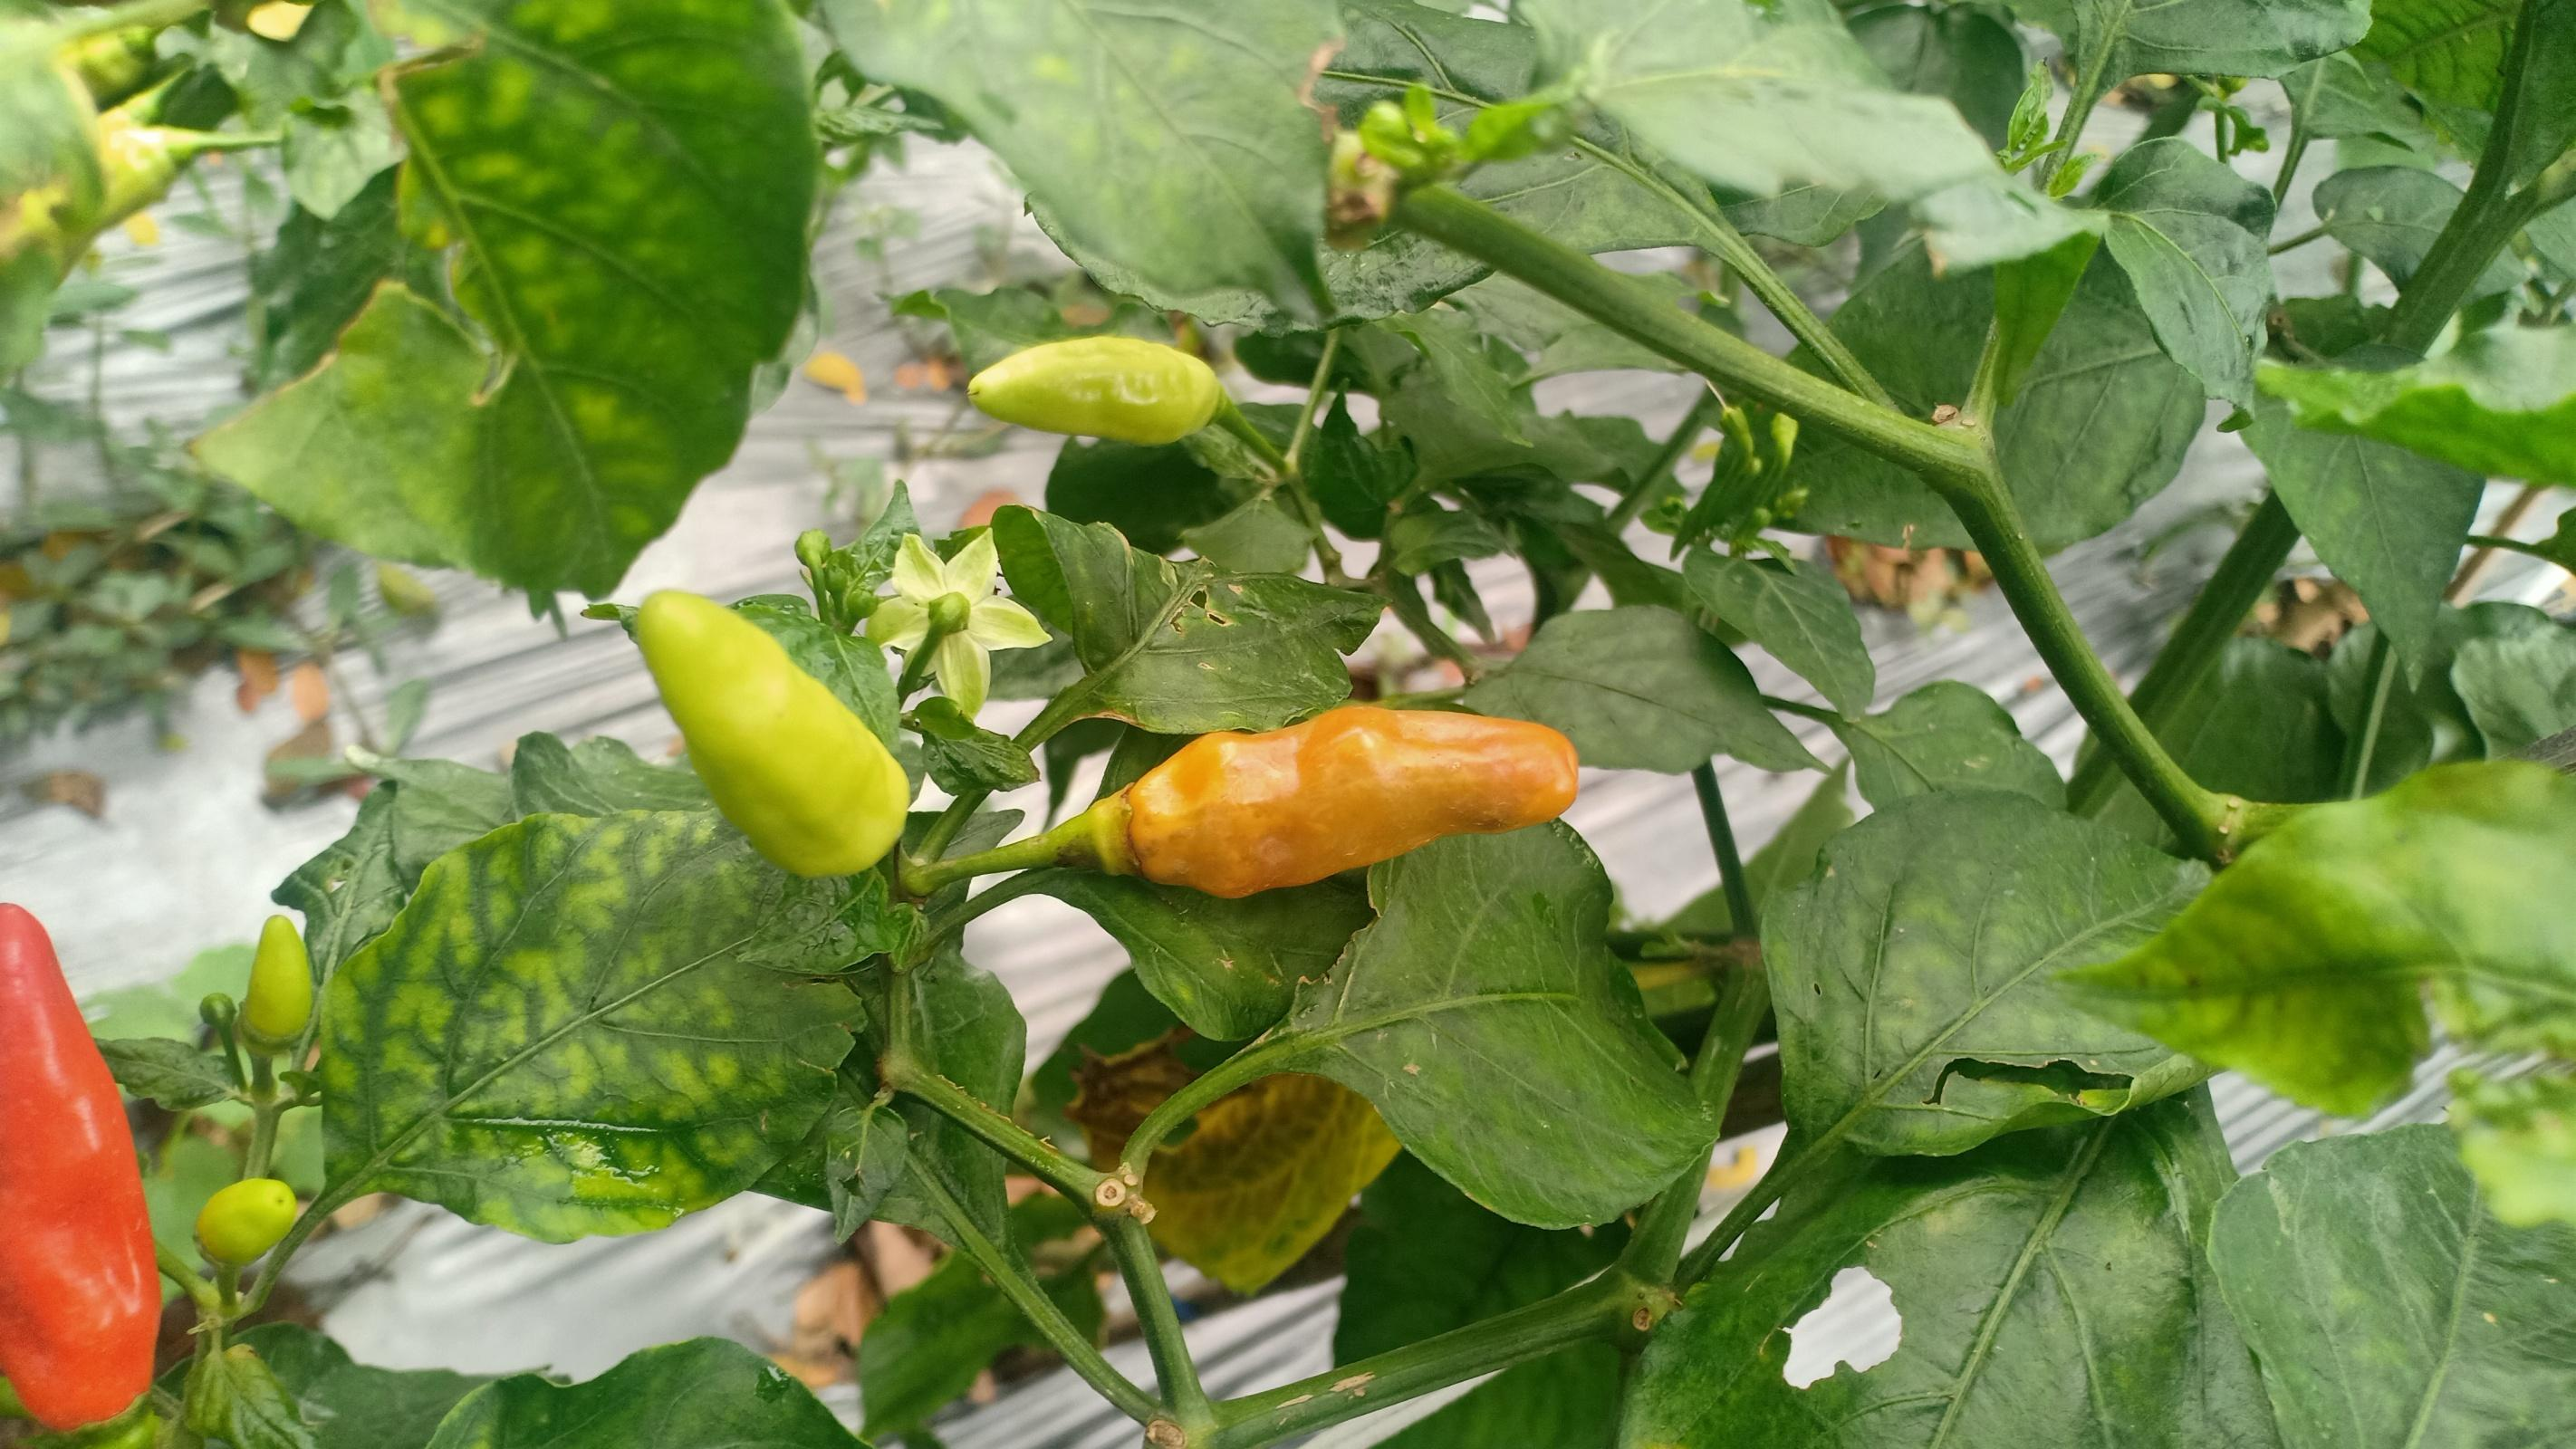cabai_normal: (2, 908, 157, 1426), (635, 586, 908, 865), (962, 338, 1219, 442), (242, 916, 311, 1035), (202, 1177, 292, 1260)
lalat_buah: (1127, 708, 1566, 911)
